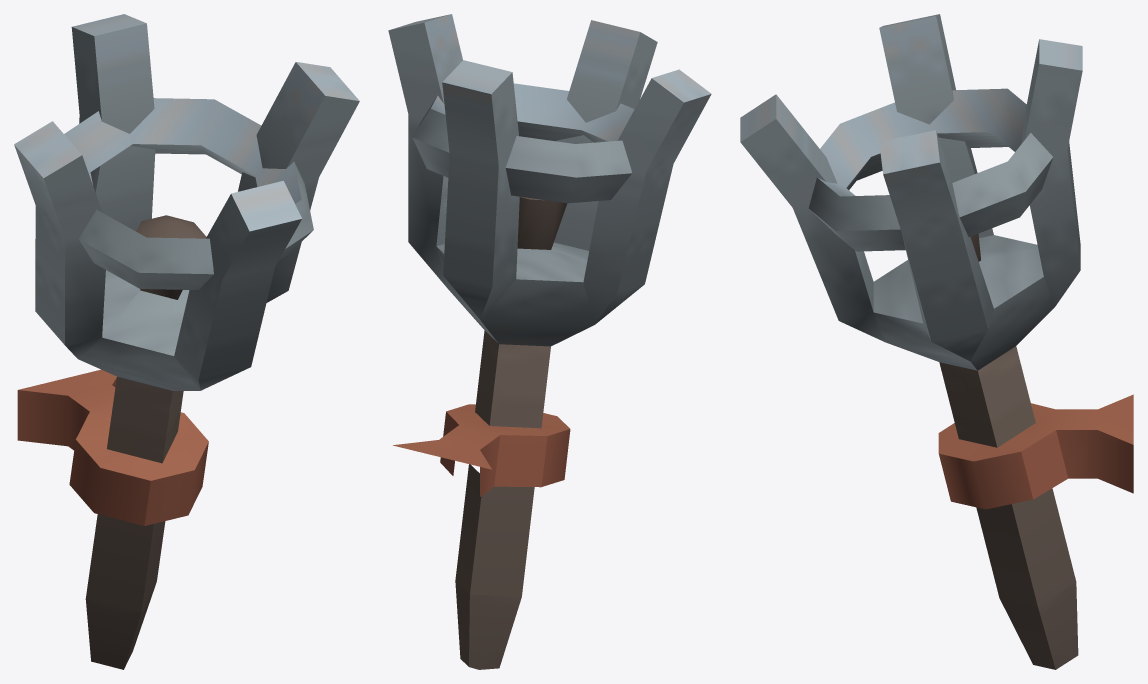
The model's file is torch_mounted.glb.
3 views of the same model, side by side, from view 1: azimuth 30°, elevation 25°; view 2: azimuth 150°, elevation 25°; view 3: azimuth 270°, elevation 25° (orthographic). The views are drawn at different scales.
Parts seen in each view (by area): view 1: torch_mounted; view 2: torch_mounted; view 3: torch_mounted.
Boxes of the visible parts, x1,y1,x2,y2 form: torch_mounted: (14,14,359,669); torch_mounted: (388,14,711,669); torch_mounted: (740,14,1133,669).
Size of the model in its own units: 0.5503 by 1.06 by 0.6158.
Materials: 1 (1 with a texture image).
